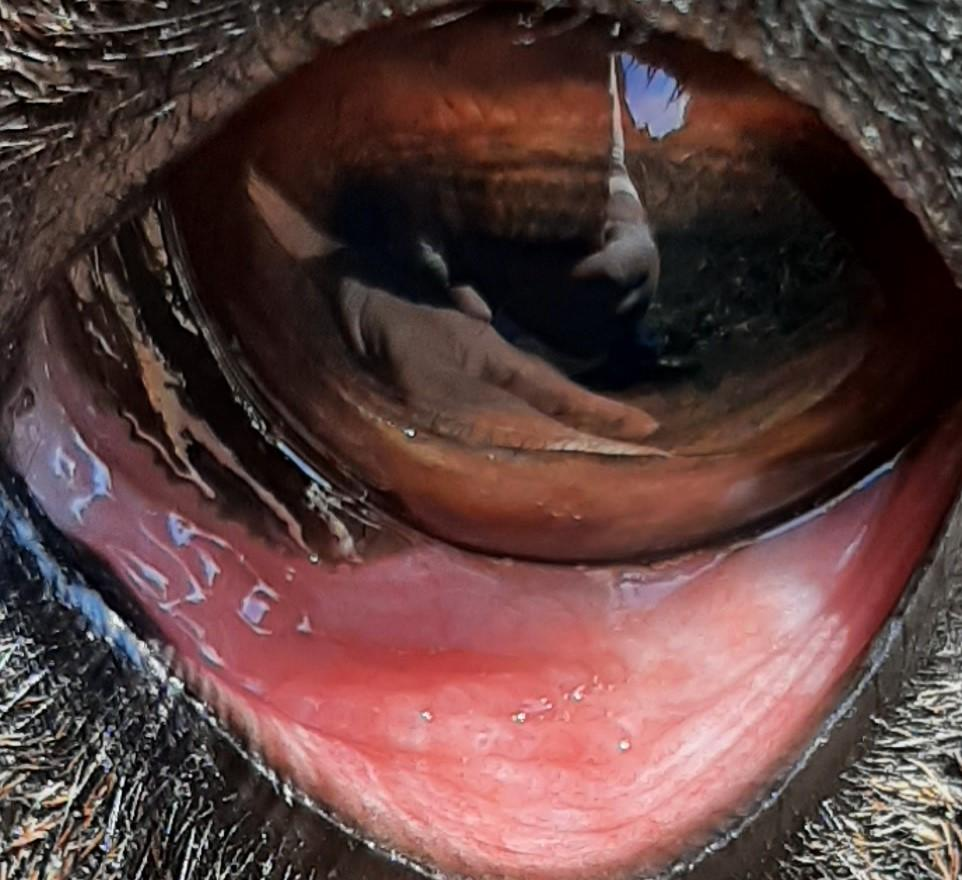eye_membrane: (6, 291, 962, 877)
